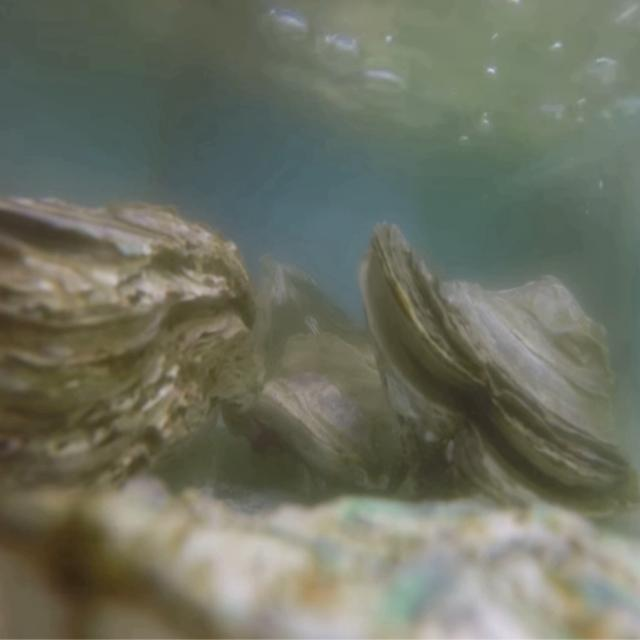Oyster-Closed: (0, 196, 258, 525)
Oyster-Indeterminate: (0, 479, 640, 638), (262, 336, 420, 506), (266, 262, 371, 372)
Oyster-Open: (358, 219, 640, 533)
